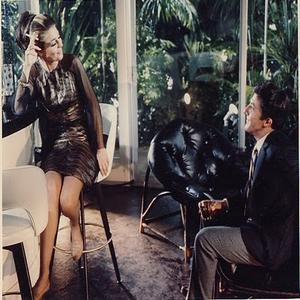cigarette: (24, 33, 40, 42)
